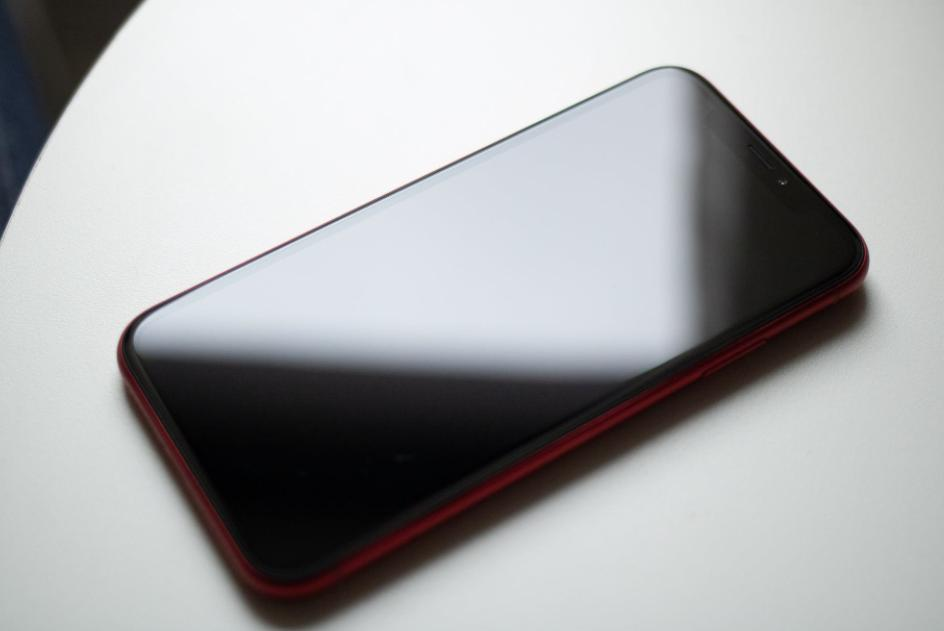mobile: (118, 64, 870, 600)
